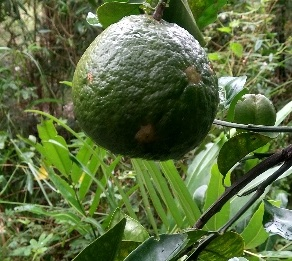Cam: (67, 14, 220, 160)
